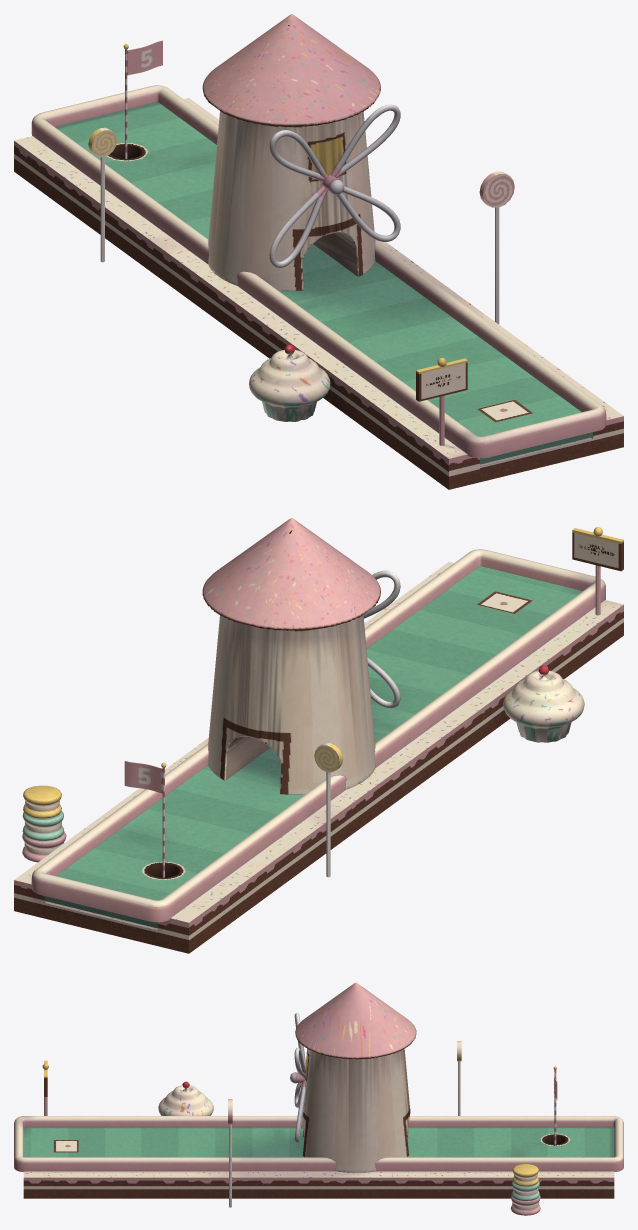
Rendered from hole05.glb.
The picture shows the model from 3 angles, top to bottom: view 1: azimuth 30°, elevation 25°; view 2: azimuth 150°, elevation 25°; view 3: azimuth 270°, elevation 25°; orthographic projection. The views are drawn at different scales.
Parts seen in each view (by area): view 1: WindmillTower, Green, Base, Rails, Whisk, Decor1, HoleSign, Decor2, Flag, Decor4; view 2: WindmillTower, Green, Base, Rails, Decor1, Decor3, HoleSign, Flag, Decor4, Whisk; view 3: WindmillTower, Base, Green, Rails, Decor3, Decor1, Whisk, Decor2.
Part boxes in pixels (box(x1,y1,x2,y2)): WindmillTower: box(202, 14, 380, 290); Green: box(55, 102, 592, 464); Base: box(14, 98, 623, 489); Rails: box(31, 85, 606, 458); Whisk: box(269, 104, 400, 267); Decor1: box(249, 344, 330, 421); HoleSign: box(416, 357, 467, 445); Decor2: box(479, 171, 514, 324); Flag: box(123, 40, 162, 158); Decor4: box(88, 127, 116, 262); WindmillTower: box(202, 518, 380, 794); Green: box(45, 566, 582, 928); Base: box(14, 562, 623, 953); Rails: box(31, 549, 605, 922); Decor1: box(503, 665, 584, 742); Decor3: box(22, 785, 66, 862); HoleSign: box(572, 527, 623, 615); Flag: box(124, 761, 166, 877); Decor4: box(314, 743, 342, 877); Whisk: box(363, 570, 400, 708); WindmillTower: box(295, 982, 416, 1172); Base: box(23, 1171, 614, 1198); Green: box(23, 1127, 614, 1157); Rails: box(14, 1116, 623, 1171); Decor3: box(510, 1164, 540, 1215); Decor1: box(158, 1081, 213, 1115); Whisk: box(290, 1013, 306, 1142); Decor2: box(228, 1099, 232, 1207).
Size of what is drawn, in the model's own units: 3.23 by 2.79 by 8.26.
Materials: 1 (1 with a texture image).
